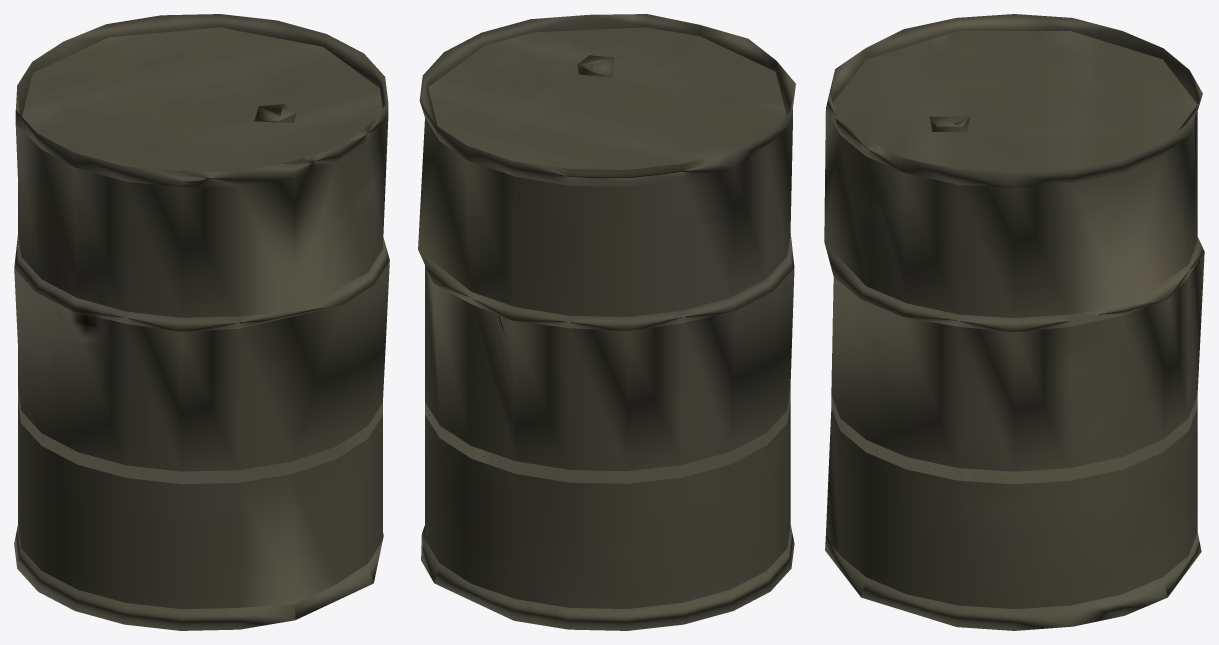
File: mb-barrel-green.lod1.glb
3 views of the same model, side by side, from view 1: azimuth 30°, elevation 25°; view 2: azimuth 150°, elevation 25°; view 3: azimuth 270°, elevation 25° (orthographic).
Parts seen in each view (by area): view 1: barrel_green; view 2: barrel_green; view 3: barrel_green.
Part boxes in pixels (x1,y1,x2,y2): barrel_green: (14, 14, 389, 630); barrel_green: (418, 14, 795, 630); barrel_green: (824, 14, 1204, 630).
Bounding box in the file's own units: 0.6609 × 0.8784 × 0.6609.
Materials: 1 (1 with a texture image).
